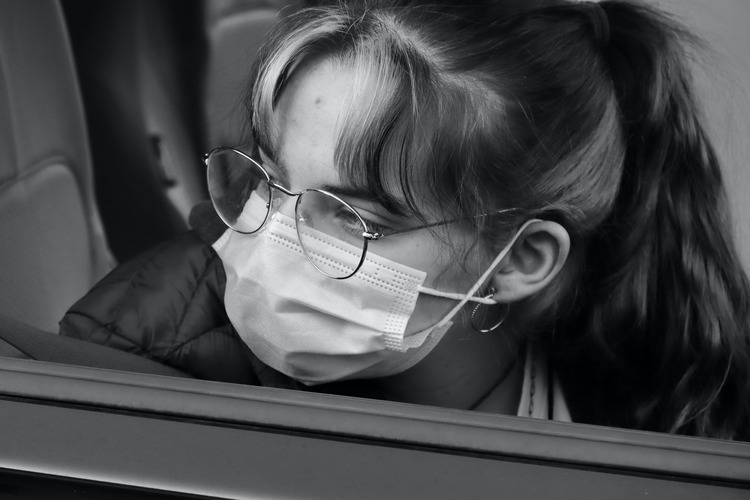with_mask: (227, 84, 469, 371)
